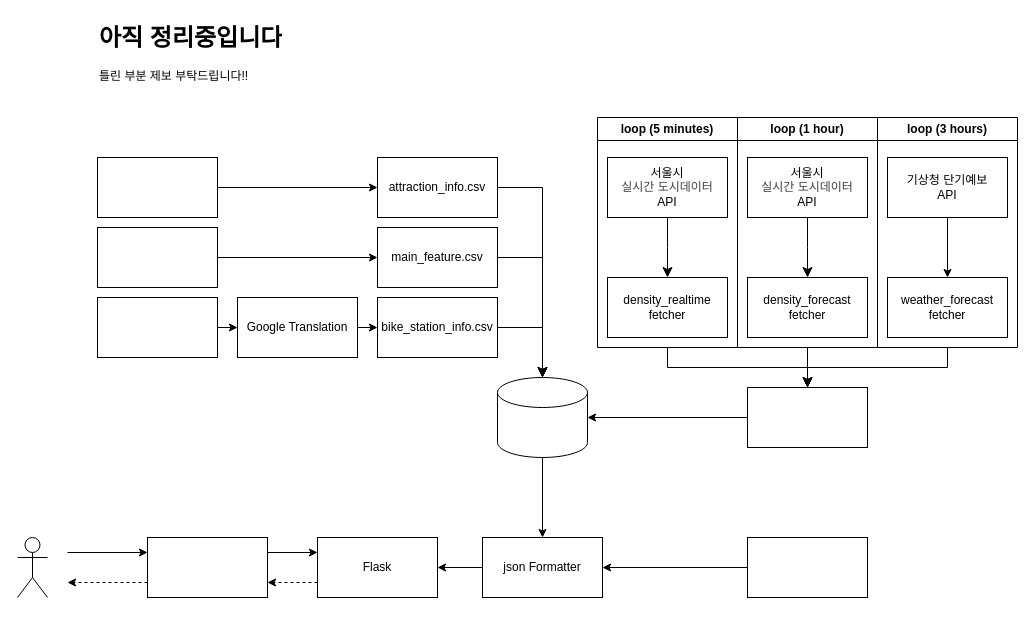
The diagram is 1035 pixels wide and 635 high, and some of its shapes have lost their labels. The shapes that lost their labels are listed below. From the top down, each one's centre as x and y in pixels, then its label:
[157,187]: 서울시 주요 장소 목록 (csv)
[157,257]: 문화 빅데이터 포털 (csv)
[157,327]: 서울시 공공자전거 대여소 목록 API
[542,417]: SQLite3
[807,417]: DB Writer
[32,567]: Actor
[207,567]: Frontend
[807,567]: 서울시 공공자전거 실시간 대여 현황 API
